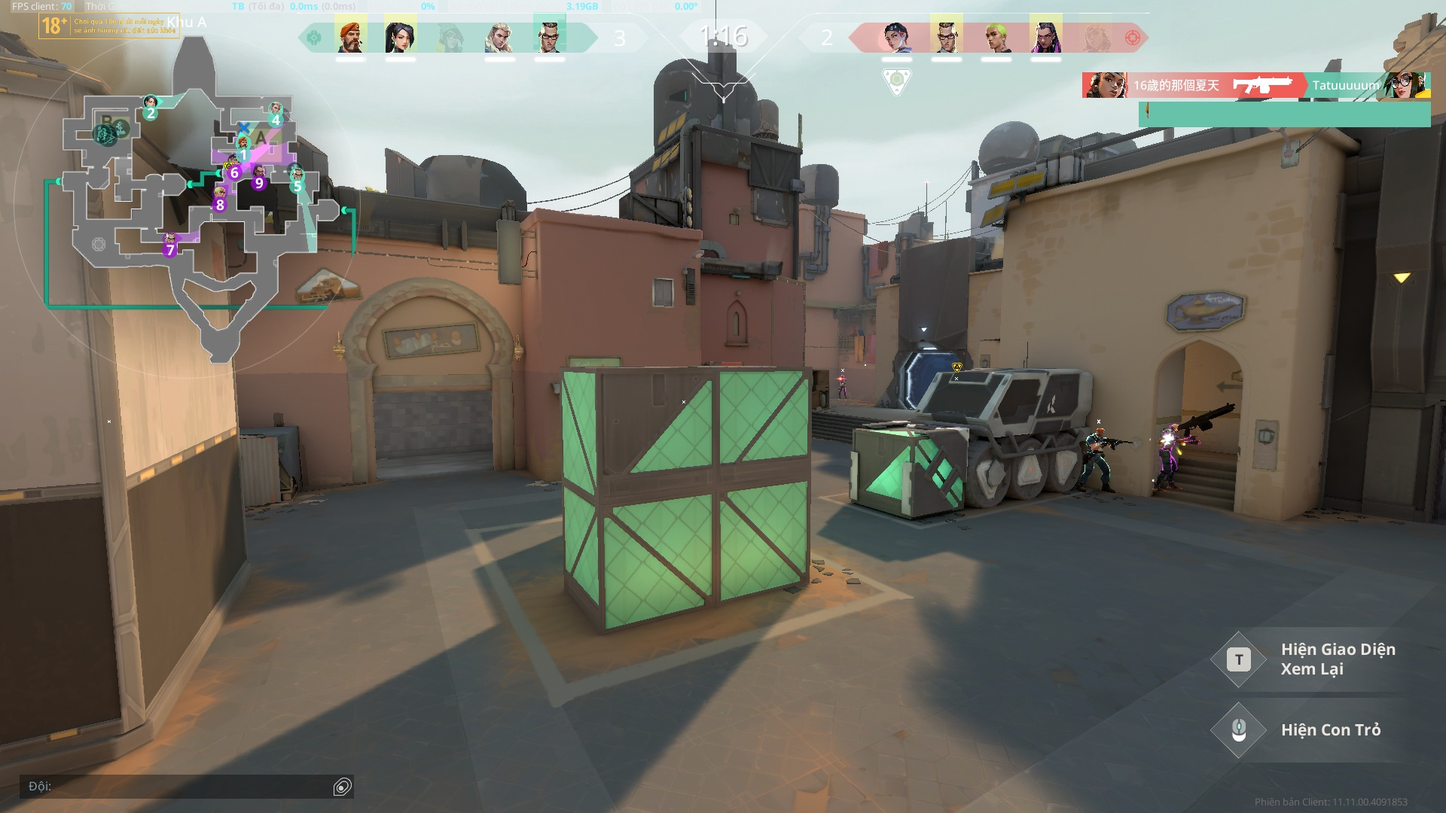body: (838, 378, 847, 385)
head: (840, 374, 845, 379)
